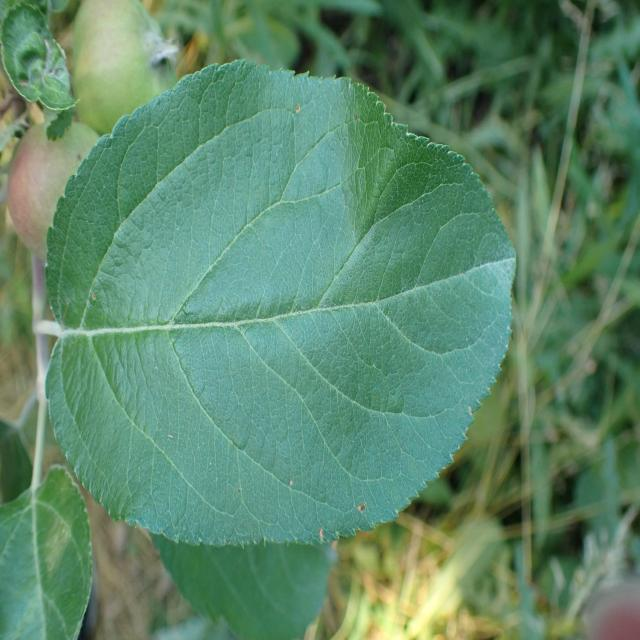healthy: (44, 58, 518, 549), (151, 530, 337, 640), (0, 464, 93, 640)
